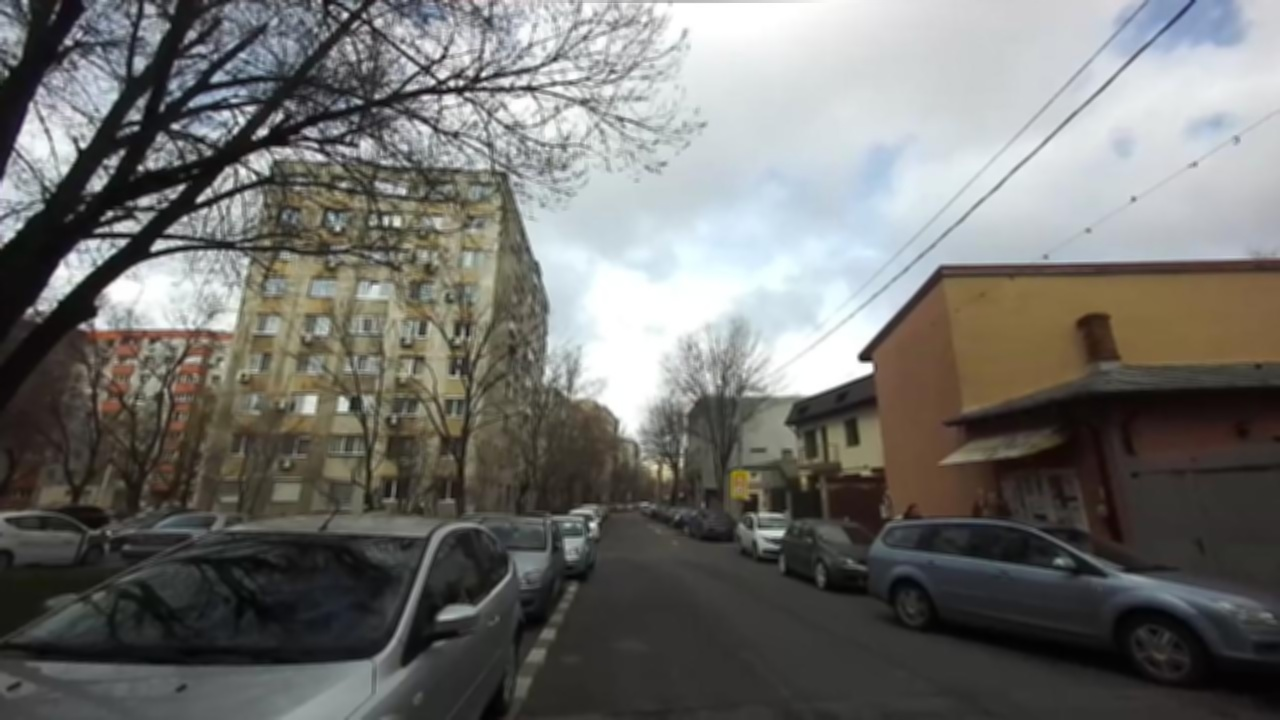pothole: (611, 704, 692, 718)
